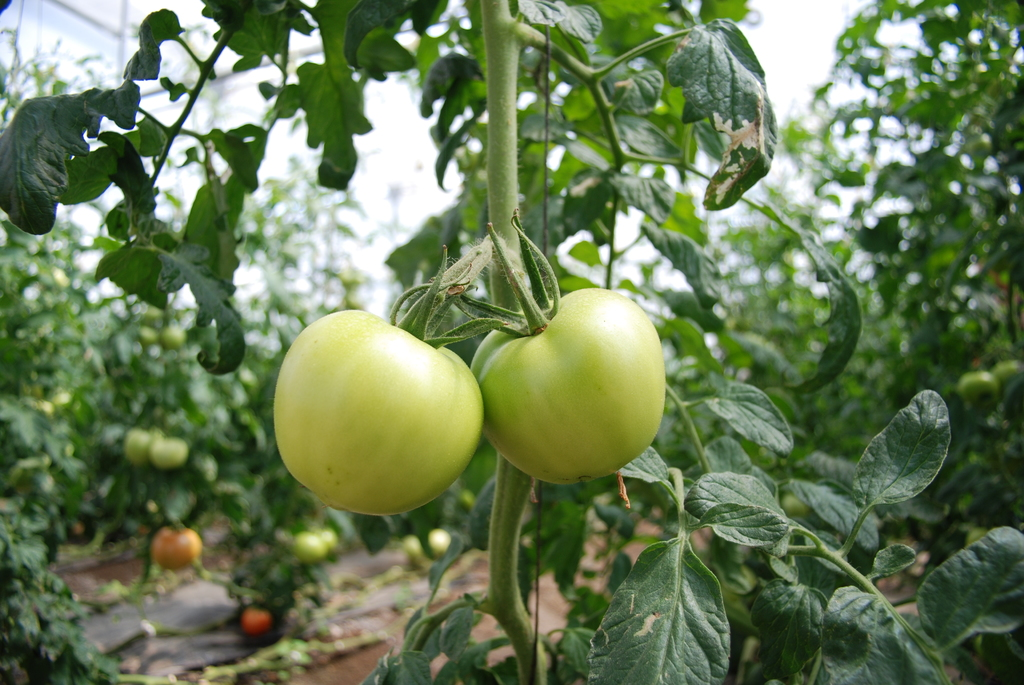Tomato: (471, 205, 666, 479), (260, 303, 487, 522)
